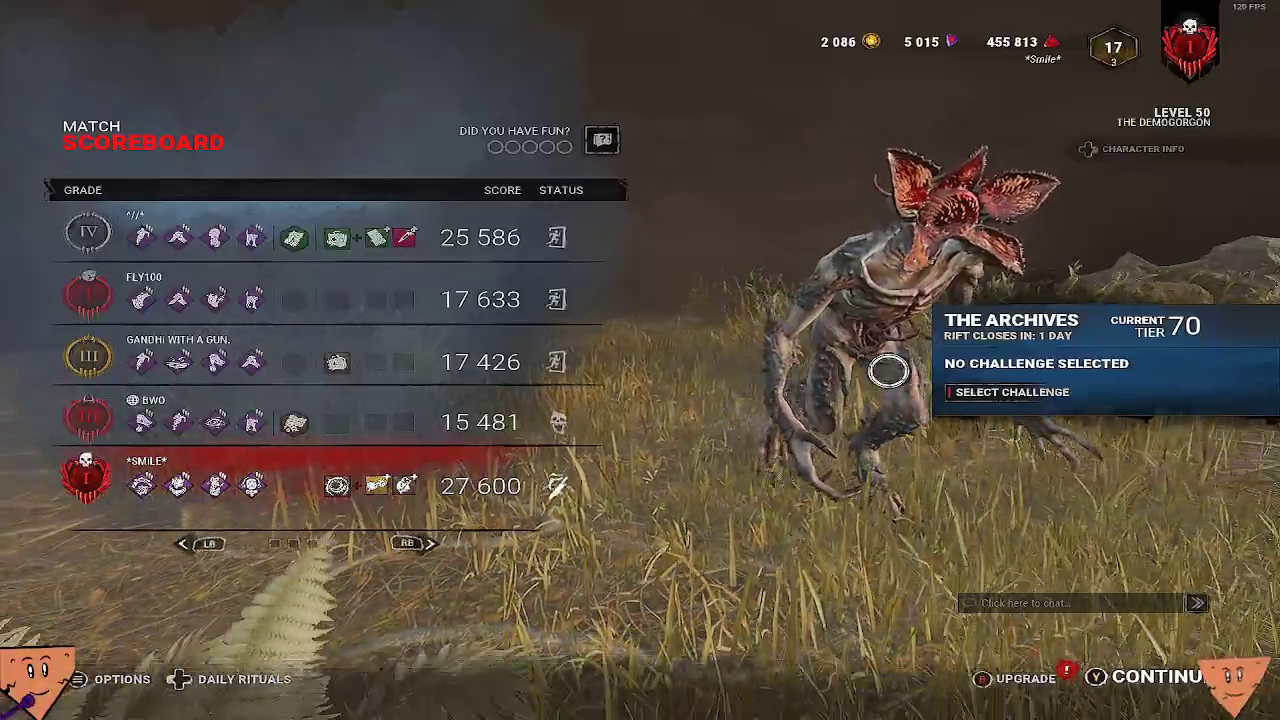adrenaline: (200, 287, 231, 312)
bbq_and_chilli: (163, 473, 194, 498)
borrowed_time: (200, 350, 231, 375), (126, 410, 157, 435)
corrupt_intervention: (126, 473, 157, 498)
dead_hard: (126, 225, 157, 250), (127, 349, 158, 374), (163, 410, 194, 435)
decisive_strike: (163, 224, 194, 249), (163, 287, 194, 312), (236, 350, 267, 375)
kindred: (200, 410, 231, 435)
pop_goes_the_weasel: (199, 473, 230, 498)
resilience: (199, 225, 230, 250)
save_the_best_for_last: (237, 473, 268, 498)
spine_chill: (237, 226, 268, 251), (239, 287, 270, 312), (237, 411, 268, 436)
sprint_burst: (126, 287, 157, 312)
windows_of_opportunity: (163, 350, 194, 375)
